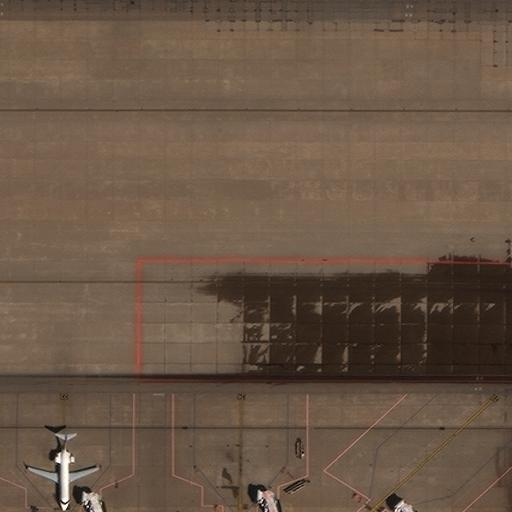Medium Civil Transport: (27, 432, 100, 511)
